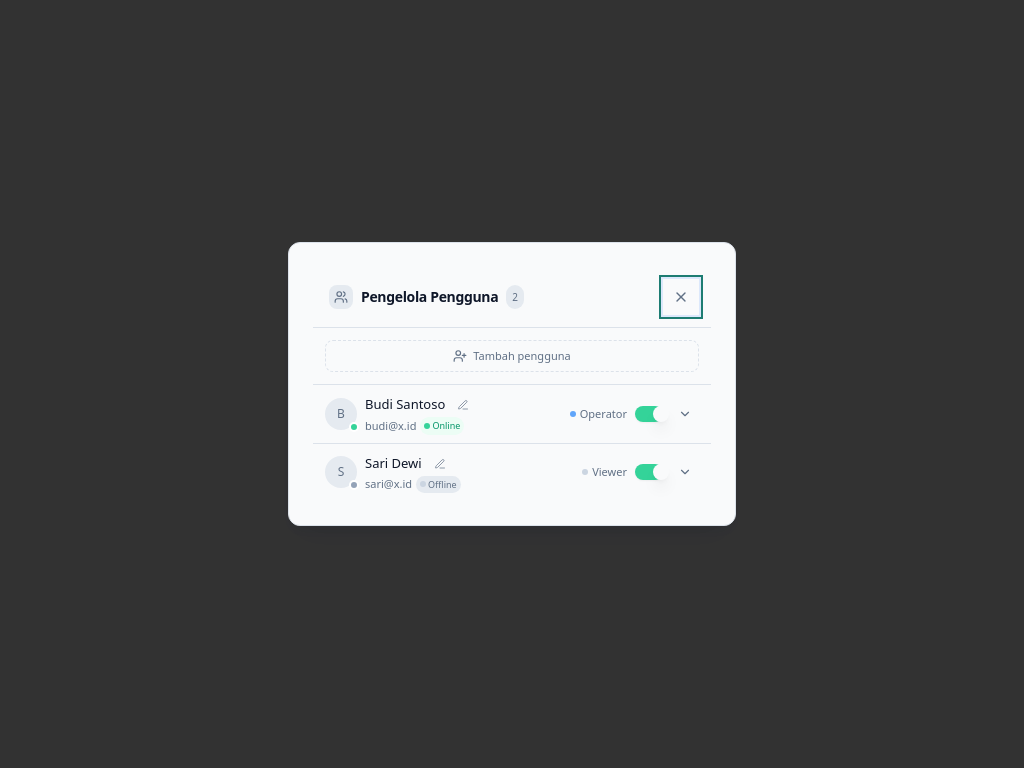
Scenario: Mode ubah nama tidak berdesakan › Escape membatalkan tanpa menyimpan
This screenshot has width=1024, height=768.
Click the button with test id "user-ubah-nama-u-1" at (463, 405), box [451,393,475,417]
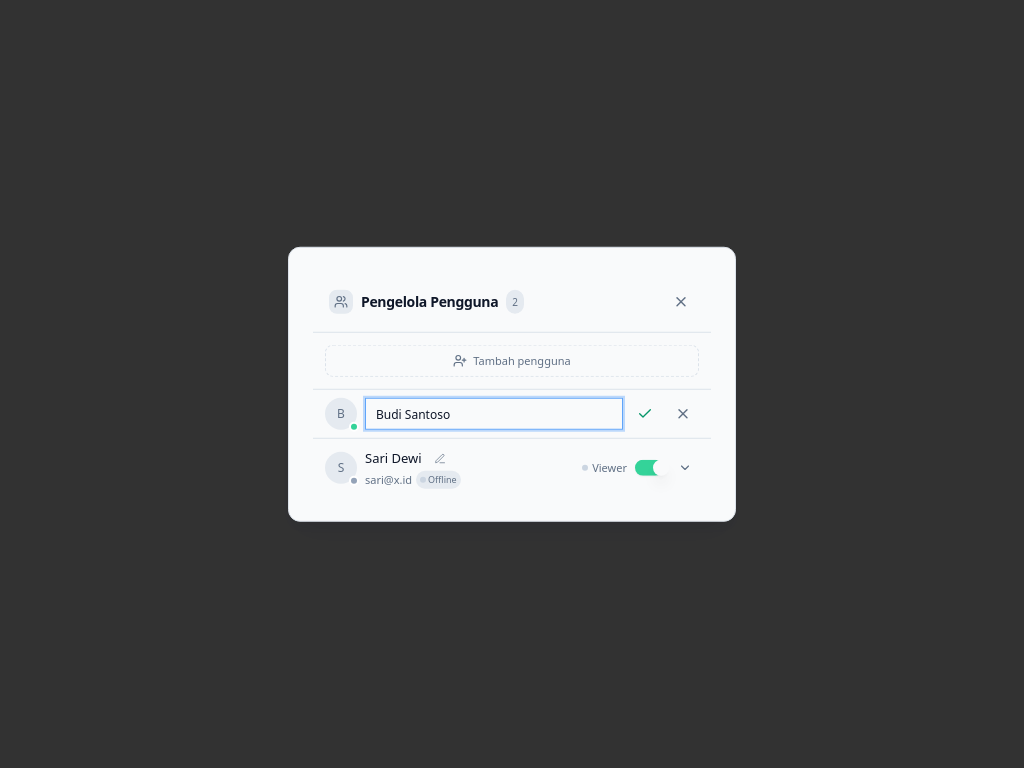
Press Escape in the field with test id "user-nama-input-u-1", box [365,398,623,430]
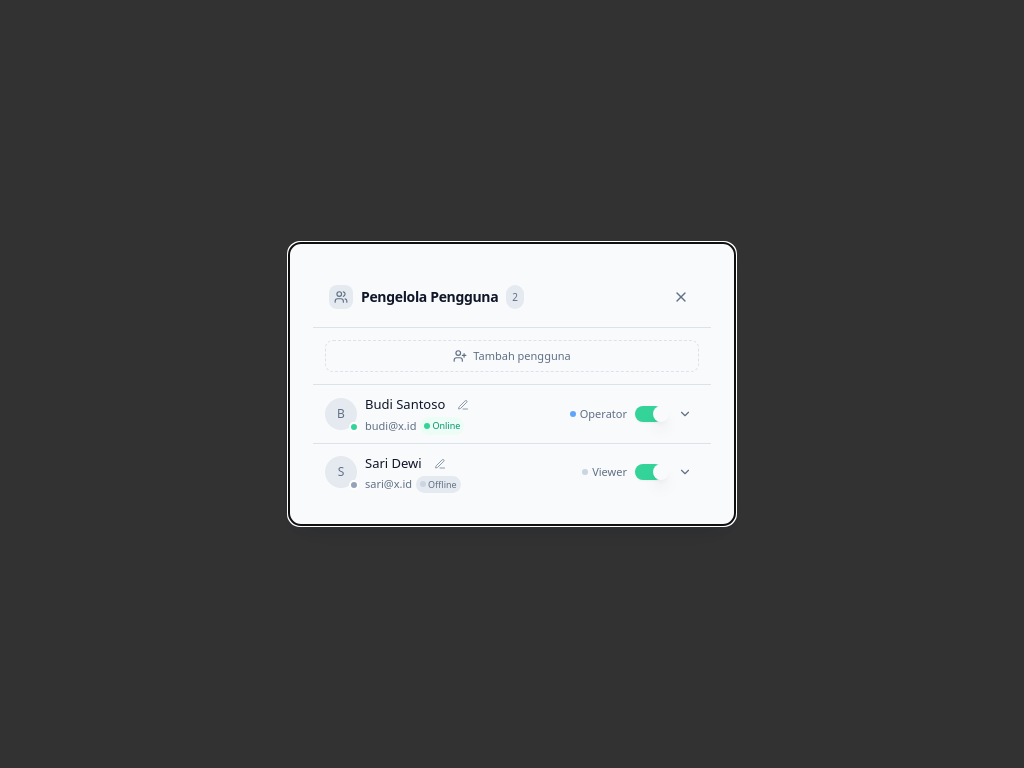
Expected: the field with test id "user-nama-input-u-1" is gone
